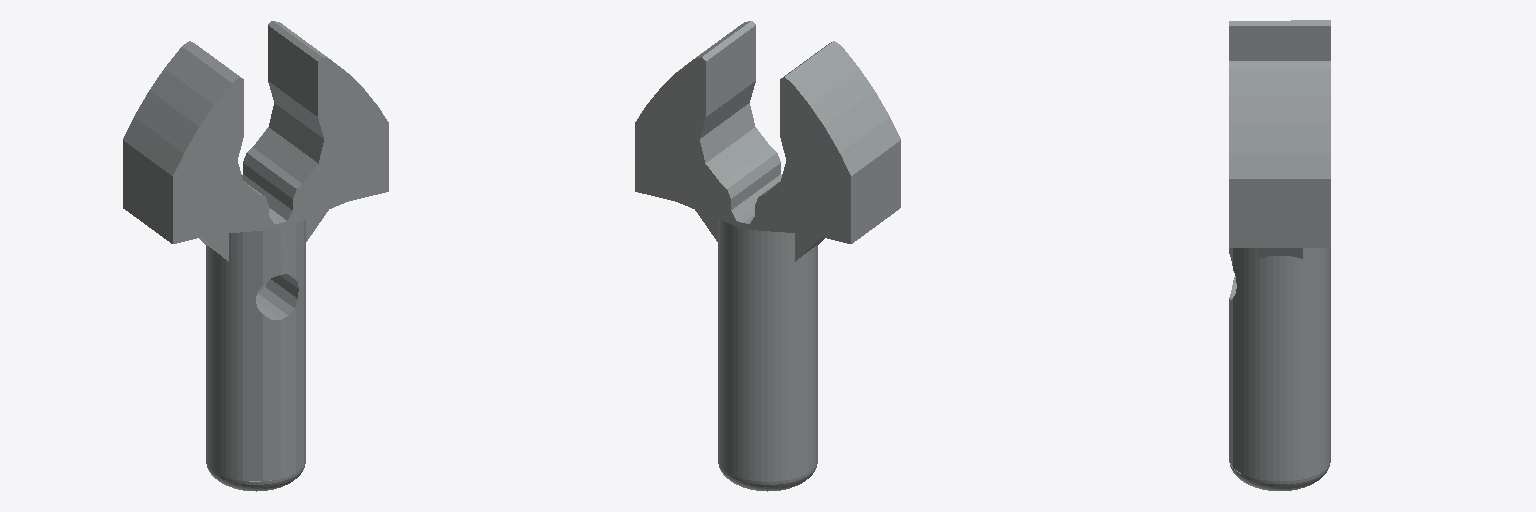
The robot description file, URDF, robot "48729b__light_bluish_gray":
<?xml version="1.0"?>
<robot name="48729b__light_bluish_gray">
  <link name="48729b__light_bluish_gray">
    <inertial>
      <origin xyz="-0.000000 0.000000 -0.003718" rpy="0 0 0"/>
      <mass value="0.000294"/>
      <inertia ixx="4.574832043e-09" ixy="3.215133870e-19" ixz="-9.458422418e-19" iyy="5.385371109e-09" iyz="-2.008651219e-13" izz="1.294756876e-09"/>
    </inertial>
    <visual>
      <geometry>
        <mesh filename="../meshes/visual/48729b.obj" scale="1 1 1"/>
      </geometry>
      <material name="48729b__light_bluish_gray_color">
        <color rgba="0.630 0.650 0.650 1.000"/>
      </material>
    </visual>
    <collision>
      <geometry>
        <mesh filename="../meshes/collision/48729b_hull.obj" scale="1 1 1"/>
      </geometry>
    </collision>
  </link>
</robot>

--- Facts derived from the render (not from the file) ---
3 views of the same robot in one strip: view 1: azimuth 30°, elevation 25°; view 2: azimuth 150°, elevation 25°; view 3: azimuth 270°, elevation 25° (orthographic).
Model 48729b__light_bluish_gray with 1 links and 0 joints (none), rooted at 48729b__light_bluish_gray, posed every joint at zero.
Visible links, largest first — view 1: 48729b__light_bluish_gray; view 2: 48729b__light_bluish_gray; view 3: 48729b__light_bluish_gray.
Boxes of the visible links, left/top/right/bottom form: 48729b__light_bluish_gray: left=123, top=21, right=388, bottom=491; 48729b__light_bluish_gray: left=635, top=21, right=900, bottom=491; 48729b__light_bluish_gray: left=1229, top=20, right=1330, bottom=490.
Bounding box of the posed robot: 0.008 × 0.0032 × 0.0153 m (x, y, z).
1 mesh visuals loaded from 1 distinct referenced files (1 OBJ).
